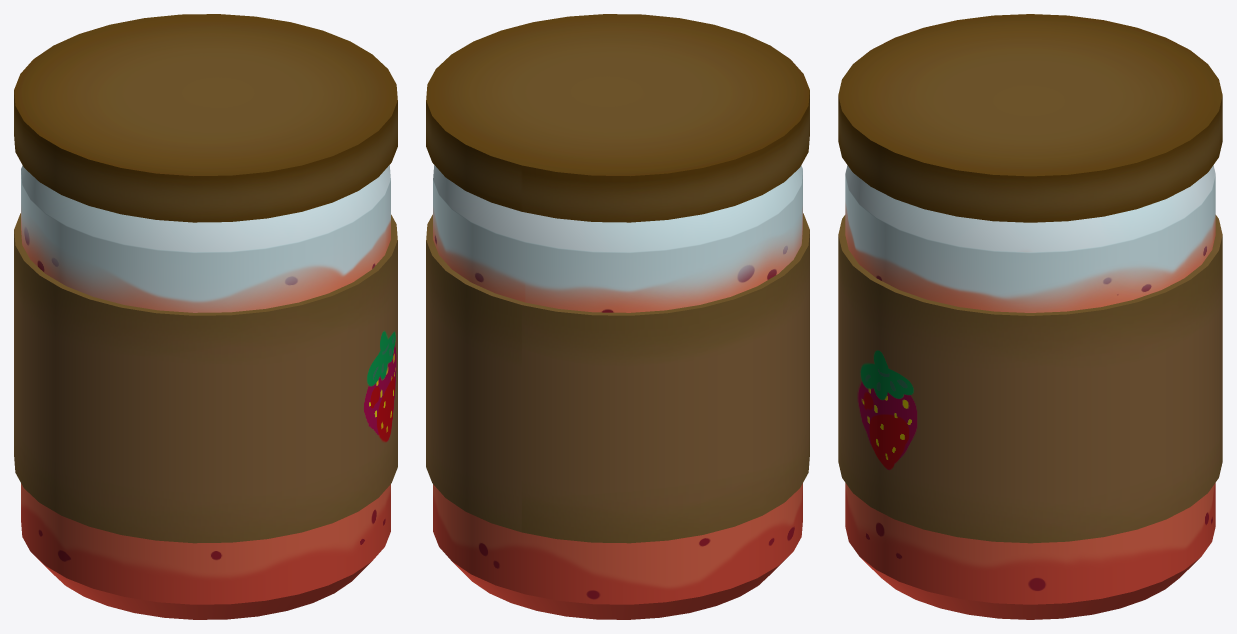
Rendered from Jar.fbx.
The picture shows the model from 3 angles, left to right: view 1: azimuth 30°, elevation 25°; view 2: azimuth 150°, elevation 25°; view 3: azimuth 270°, elevation 25°; orthographic projection.
Parts seen in each view (by area): view 1: Cylinder.002, Cylinder.003, Cylinder.001; view 2: Cylinder.002, Cylinder.003, Cylinder.001; view 3: Cylinder.002, Cylinder.003, Cylinder.001.
Boxes of the visible parts, bbox=[...] form: Cylinder.002: bbox=[14, 213, 397, 543]; Cylinder.003: bbox=[14, 14, 397, 222]; Cylinder.001: bbox=[21, 165, 390, 619]; Cylinder.002: bbox=[426, 213, 809, 543]; Cylinder.003: bbox=[426, 14, 809, 222]; Cylinder.001: bbox=[433, 165, 802, 619]; Cylinder.002: bbox=[838, 215, 1222, 543]; Cylinder.003: bbox=[838, 14, 1222, 222]; Cylinder.001: bbox=[845, 165, 1215, 619].
Bounding box in the file's own units: 174 × 174 × 227.
3 materials, 3 textured.
